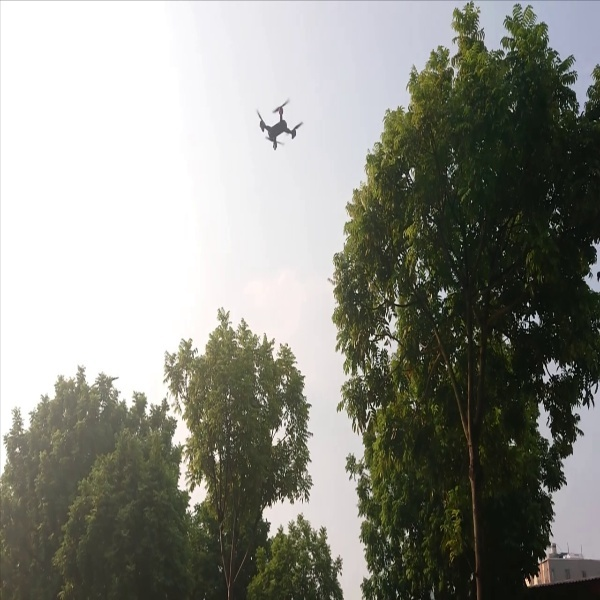drone: (250, 94, 310, 155)
